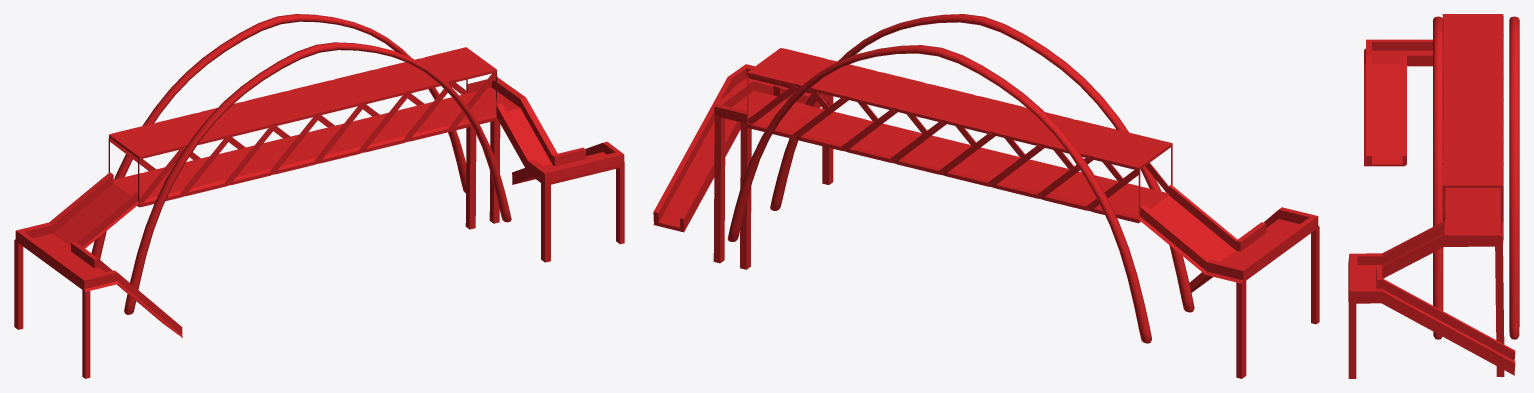
The model's file is puente.fbx.
The picture shows the model from 3 angles, left to right: view 1: azimuth 30°, elevation 25°; view 2: azimuth 150°, elevation 25°; view 3: azimuth 270°, elevation 25°; orthographic projection. The views are drawn at different scales.
Visible parts, largest first — view 1: Plane.004; view 2: Plane.004; view 3: Plane.004.
Part boxes in pixels (left/top/right/bottom): Plane.004: left=14, top=14, right=624, bottom=378; Plane.004: left=653, top=14, right=1319, bottom=378; Plane.004: left=1348, top=14, right=1519, bottom=378.
Bounding box in the file's own units: 10876 × 4899 × 3084.
